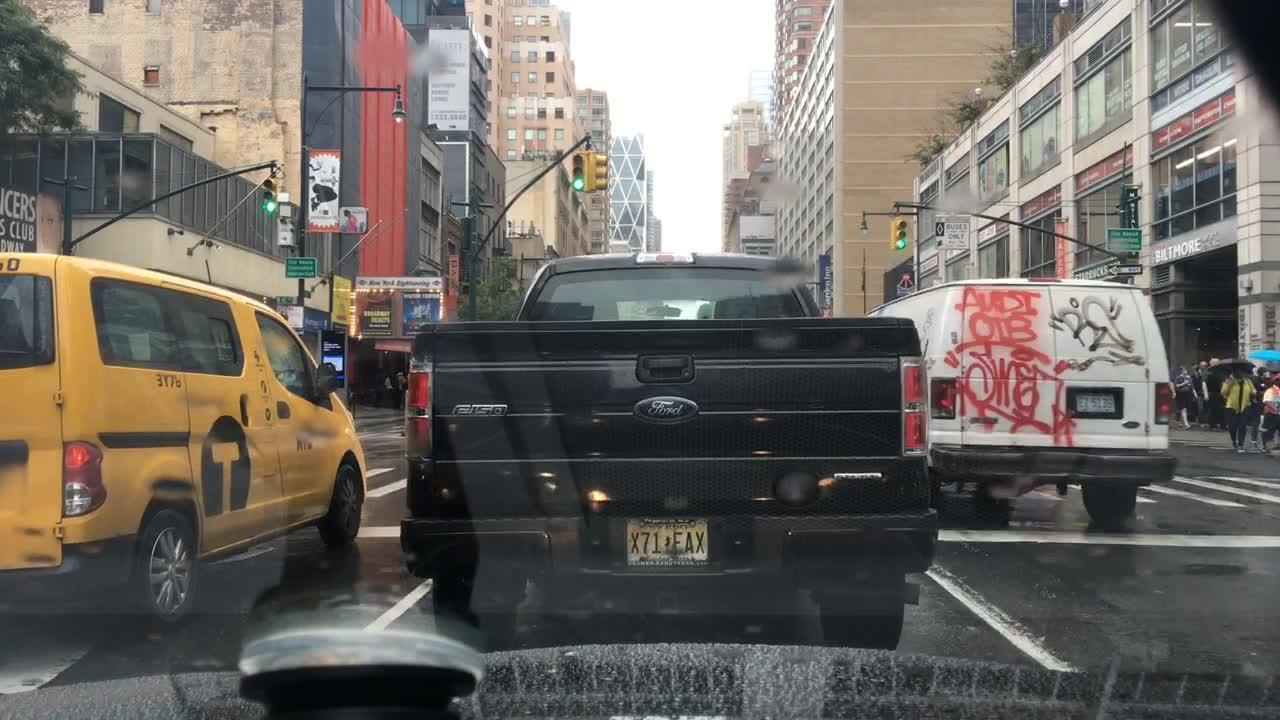ford: (631, 396, 699, 428)
